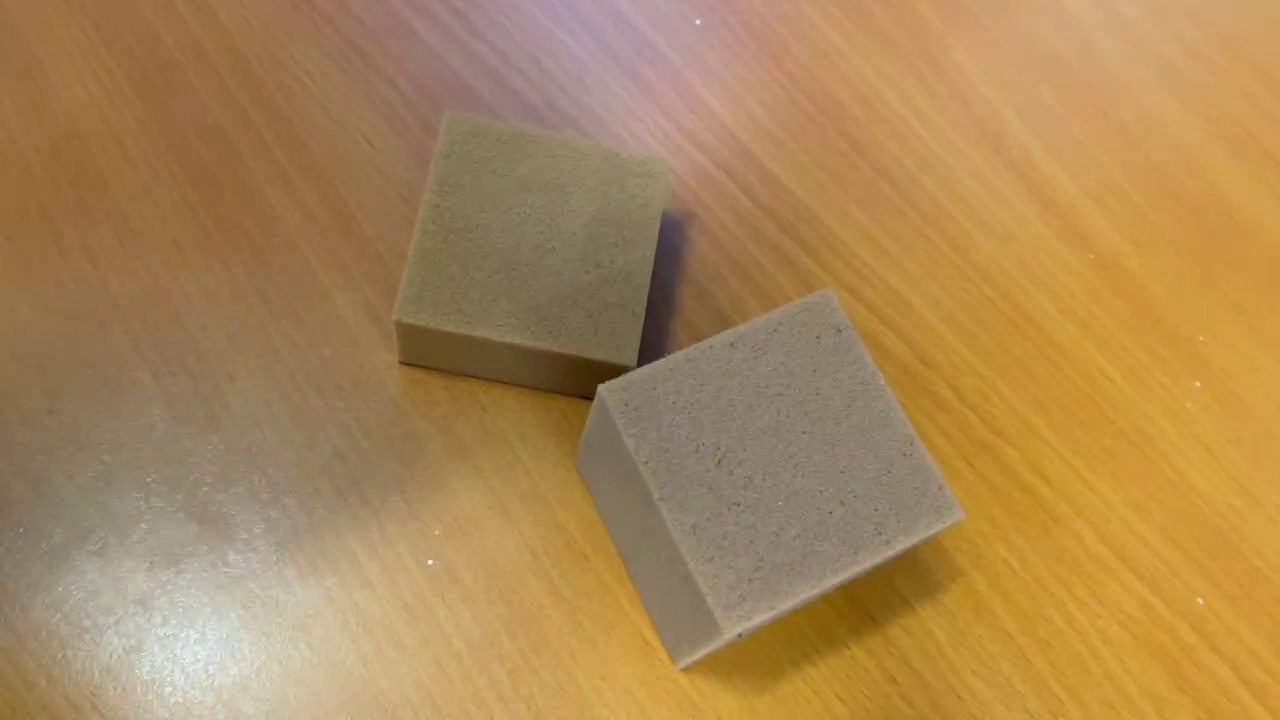Cube: (570, 278, 970, 683)
Cube_short: (382, 101, 679, 412)
